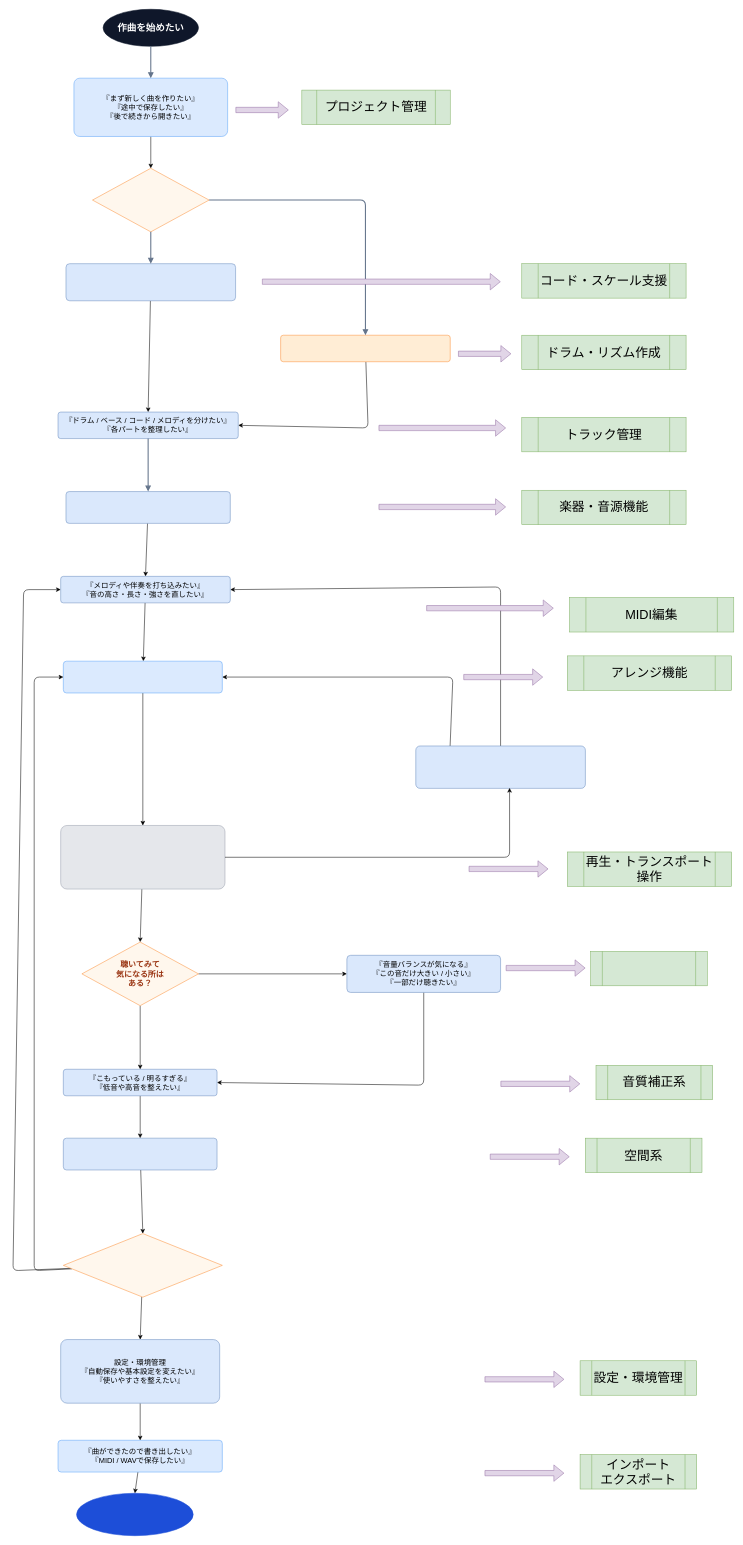
The diagram is 743 pixels wide and 1545 high, and some of its shapes have lost their labels. The centre of each missing label's shape, as x and y in pixels:
『Aメロ・Bメロ・サビの流れを作りたい』 『曲全体の構成を並べたい』: the point at 142,677
『このトラックをどんな音で鳴らすか決めたい』 『ピアノ・ベース・ドラム音を選びたい』: the point at 147,507
『どんなコードにすれば良いか分からない』 『曲らしい進行にしたい』: the point at 150,282
『まずリズムから作りたい』 『ビートの土台を作りたい』: the point at 365,348
『少し広がりが欲しい』 『やまびこ感 / 奥行きを足したい』: the point at 140,1154
『操作をやり直したい』 『用語の意味を知りたい』 『ズームして見やすくしたい』: the point at 500,766
ミキサー機能: the point at 648,968
何から 作り始める？: the point at 150,200
再生・トランスポート操作 『今の状態を聴いて確認したい』 『再生・停止・ループしたい』: the point at 142,857
曲の内容を まだ直したい？: the point at 142,1265
曲を書き出す: the point at 134,1514
